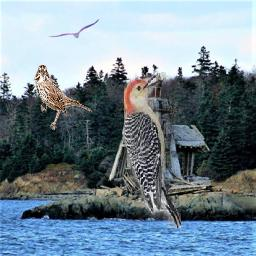Sparrow: (34, 64, 93, 130)
Woodpecker: (125, 72, 182, 228)
